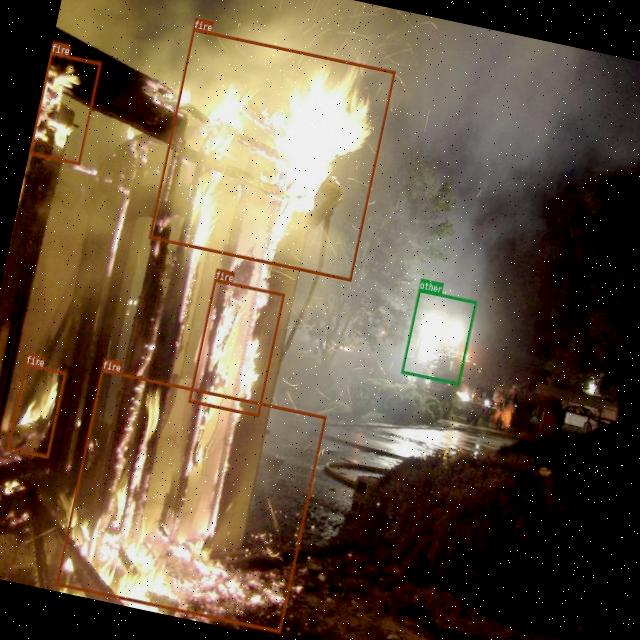fire: (54, 368, 326, 632), (148, 28, 395, 280), (187, 278, 284, 416), (28, 51, 101, 165), (6, 362, 66, 458)
